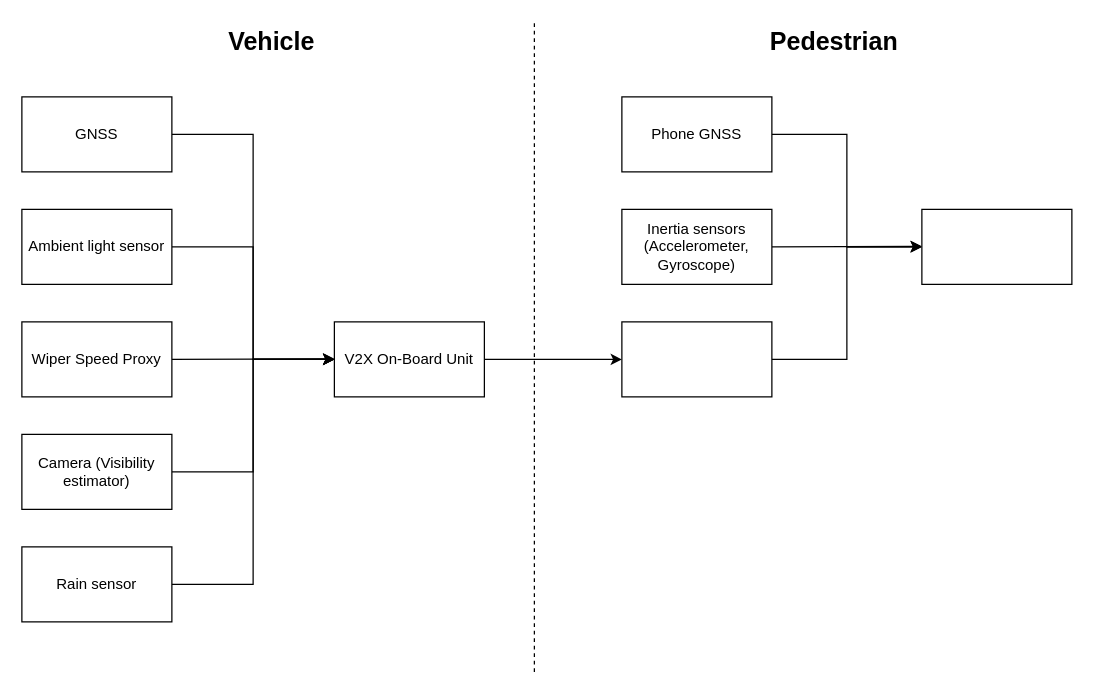
Some shapes in this 1094 by 695 pixel diagram are drawn without their labels. Here are the shapes that lost their labels. From the top down, the centre of each, then its label:
At [996,246]: "Alert engine (vibration & audio warning): Smartphone".
At [696,359]: "V2P communication receiver".
